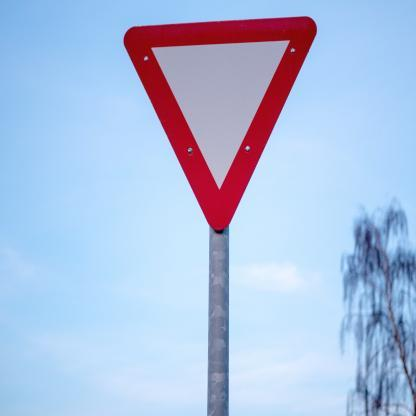road_sign: (125, 17, 316, 231)
